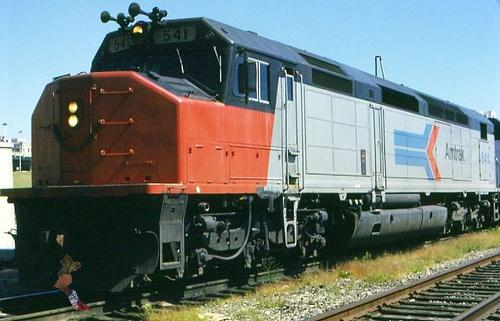tampered: (54, 255, 92, 310)
